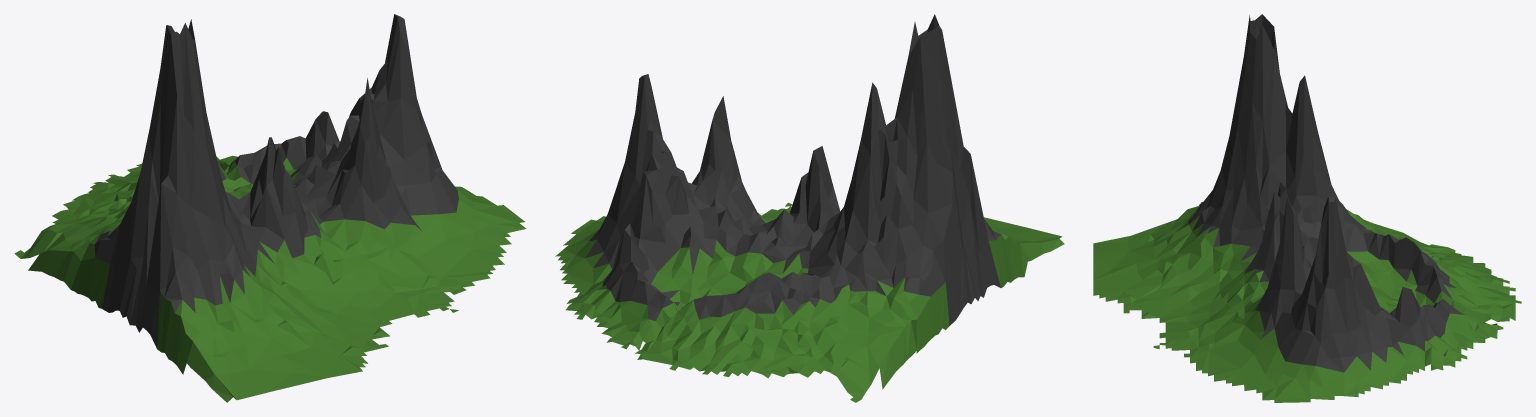
Rendered from Mountain8_hig.fbx.
The picture shows the model from 3 angles, left to right: view 1: azimuth 30°, elevation 25°; view 2: azimuth 150°, elevation 25°; view 3: azimuth 270°, elevation 25°; orthographic projection. The views are drawn at different scales.
Visible parts, largest first — view 1: Plane.023; view 2: Plane.023; view 3: Plane.023.
Boxes of the visible parts, <box> form: Plane.023: <box>14,14,526,402</box>; Plane.023: <box>555,14,1064,402</box>; Plane.023: <box>1093,14,1521,402</box>.
Size of the model in its own units: 1169 by 866 by 1291.
